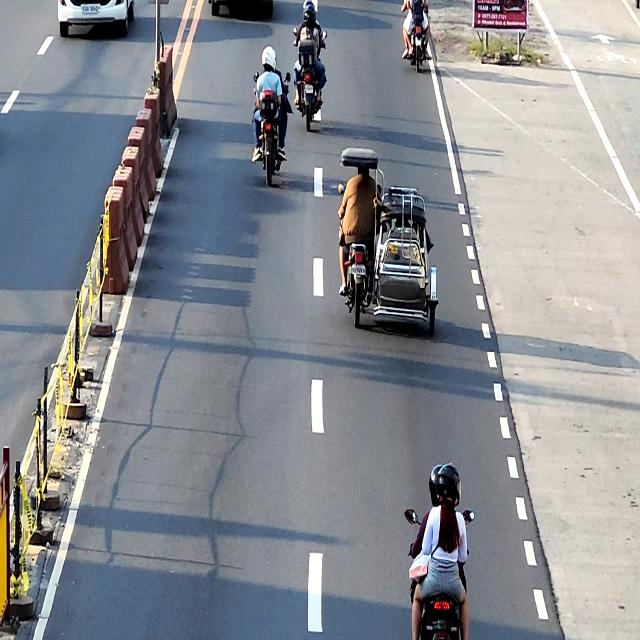Car: (58, 0, 135, 37)
License-Plate: (81, 4, 100, 14), (351, 263, 366, 275), (304, 85, 314, 94)
Motorcycle: (404, 507, 475, 640), (254, 71, 291, 186), (294, 25, 327, 132), (407, 0, 428, 73)
Tricycle: (338, 148, 440, 335)
